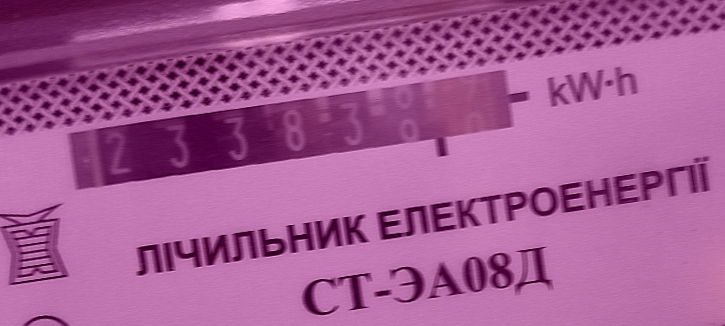0: (459, 105, 489, 133)
2: (100, 124, 134, 176)
3: (160, 117, 194, 170), (221, 110, 252, 163), (335, 95, 367, 146)
8: (278, 103, 309, 152), (388, 80, 420, 110)
9: (393, 111, 423, 143), (455, 70, 483, 102)
screen: (54, 52, 534, 212)
